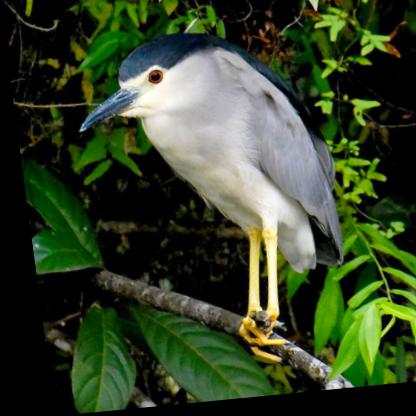Burung: (64, 25, 350, 375)
